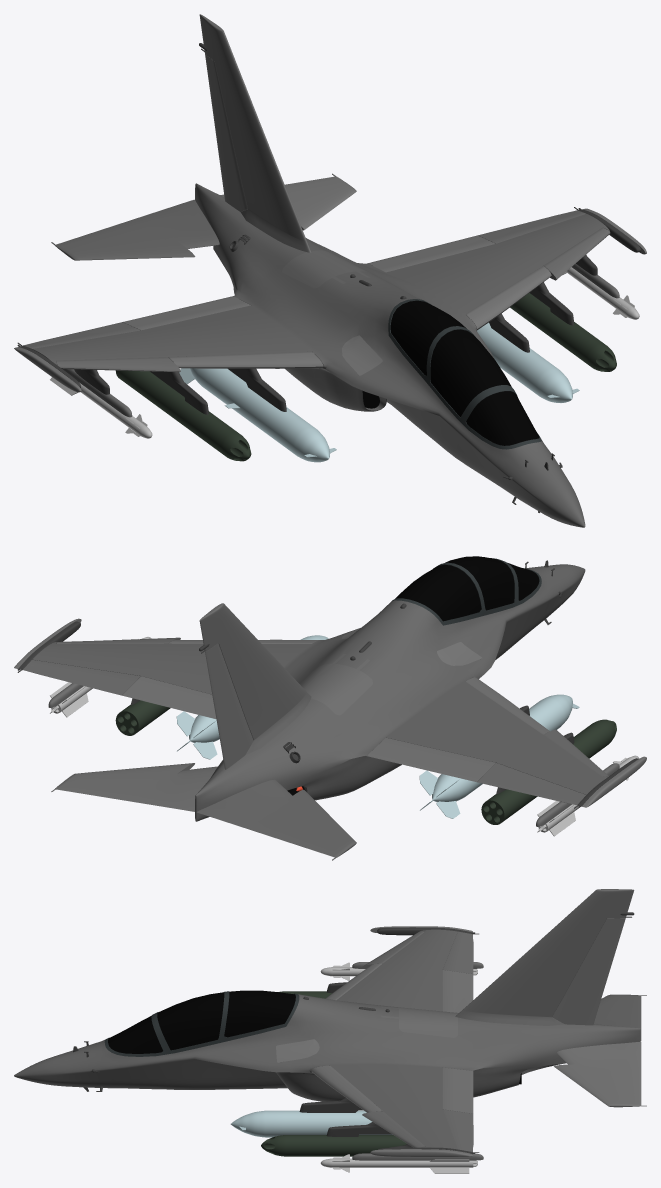
File: Yak130.glb
3 views of the same model, one above another, from view 1: azimuth 30°, elevation 25°; view 2: azimuth 150°, elevation 25°; view 3: azimuth 270°, elevation 25° (orthographic). The views are drawn at different scales.
Visible parts, largest first — view 1: Fuselage, TailFin, CanopyGlassR, ElevatorR, PTB450R, B13R, PTB450L, B13L, CanopyGlassF, Rudder, Slat1R, ElevatorL (+14 smaller); view 2: Fuselage, TailFin, ElevatorR, CanopyGlassR, ElevatorL, Rudder, PTB450R, FlapR, Airbrake, B13R, FlapL, ElevonL (+14 smaller); view 3: Fuselage, TailFin, CanopyGlassR, ElevatorL, Rudder, PTB450L, B13L, R73L, Airbrake, ElevatorR, FlapL, CanopyGlassF (+15 smaller).
Part boxes in pixels (bbox=[...]): Fuselage: bbox=[32, 183, 609, 527]; TailFin: bbox=[199, 14, 311, 252]; CanopyGlassR: bbox=[390, 300, 511, 416]; ElevatorR: bbox=[51, 199, 219, 260]; PTB450R: bbox=[179, 368, 336, 462]; B13R: bbox=[115, 370, 251, 461]; PTB450L: bbox=[477, 322, 579, 402]; B13L: bbox=[510, 293, 616, 371]; CanopyGlassF: bbox=[466, 391, 539, 445]; Rudder: bbox=[205, 54, 247, 211]; Slat1R: bbox=[168, 351, 323, 368]; ElevatorL: bbox=[220, 173, 356, 230]; Fuselage: bbox=[32, 564, 608, 821]; TailFin: bbox=[199, 603, 311, 754]; ElevatorR: bbox=[196, 779, 356, 860]; CanopyGlassR: bbox=[395, 556, 514, 621]; ElevatorL: bbox=[51, 763, 217, 811]; Rudder: bbox=[205, 643, 253, 769]; PTB450R: bbox=[419, 694, 579, 818]; FlapR: bbox=[367, 738, 495, 782]; Airbrake: bbox=[300, 654, 372, 715]; B13R: bbox=[481, 719, 616, 824]; FlapL: bbox=[122, 676, 216, 718]; ElevonL: bbox=[23, 660, 140, 695]; Fuselage: bbox=[14, 929, 640, 1149]; TailFin: bbox=[455, 889, 634, 1025]; CanopyGlassR: bbox=[157, 990, 295, 1050]; ElevatorL: bbox=[554, 1042, 646, 1107]; Rudder: bbox=[552, 918, 625, 1025]; PTB450L: bbox=[230, 1110, 392, 1137]; B13L: bbox=[261, 1135, 406, 1156]; R73L: bbox=[320, 1154, 477, 1173]; Airbrake: bbox=[381, 1006, 457, 1037]; ElevatorR: bbox=[594, 994, 646, 1040]; FlapL: bbox=[442, 1067, 473, 1113]; CanopyGlassF: bbox=[108, 1016, 162, 1053].
Bounding box in the file's own units: 9.8 × 4.1 × 11.61.
